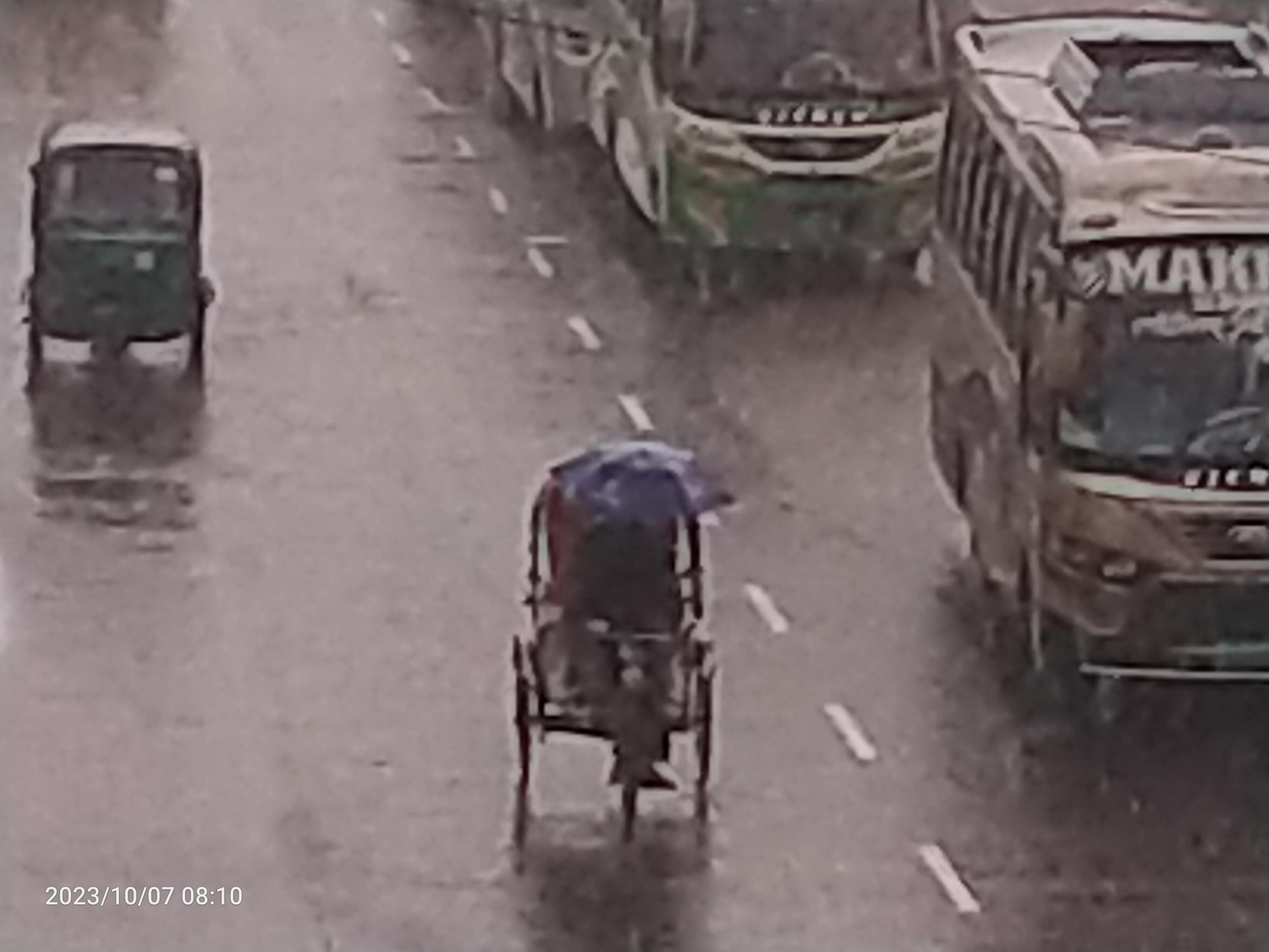Bus: (914, 9, 1269, 696), (575, 1, 1009, 313)
Car: (470, 380, 755, 917)
